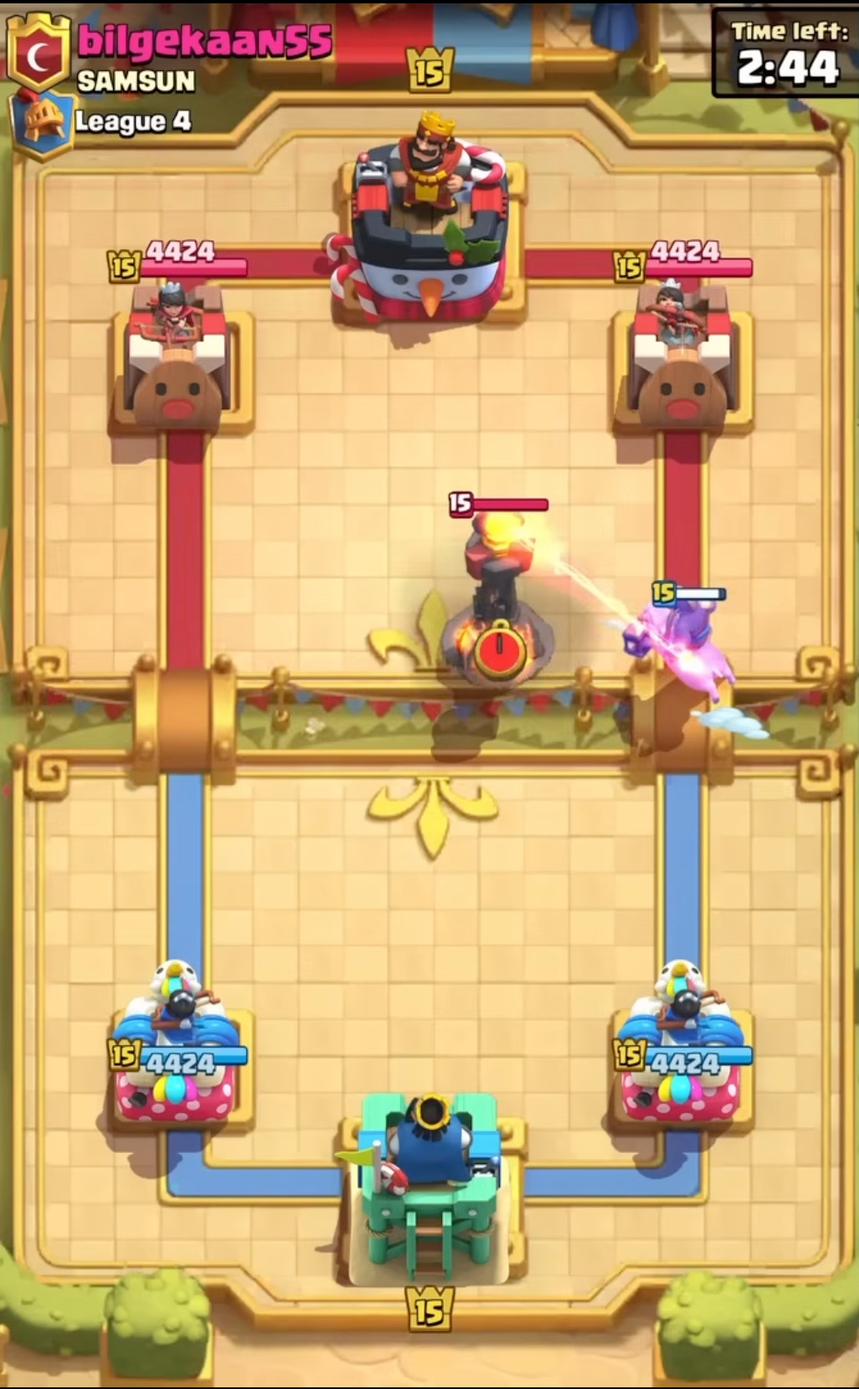hog-rider: (614, 577, 747, 707)
